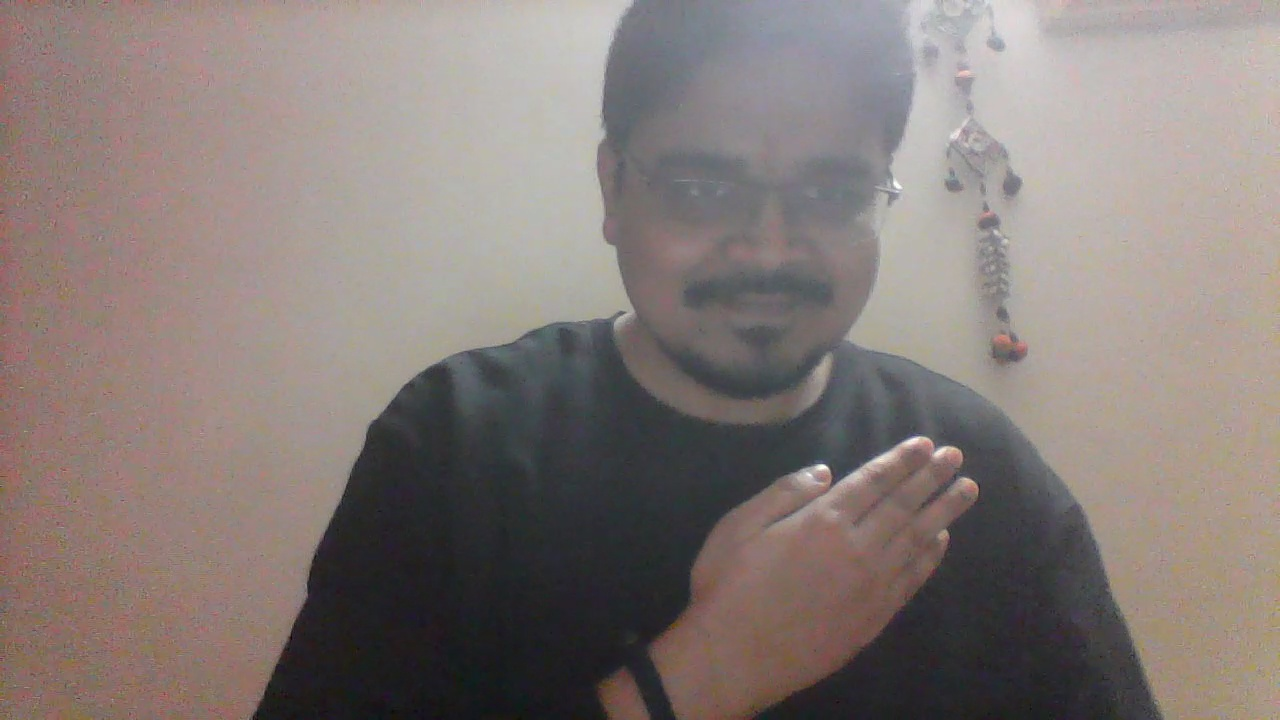Please: (676, 434, 985, 707)
